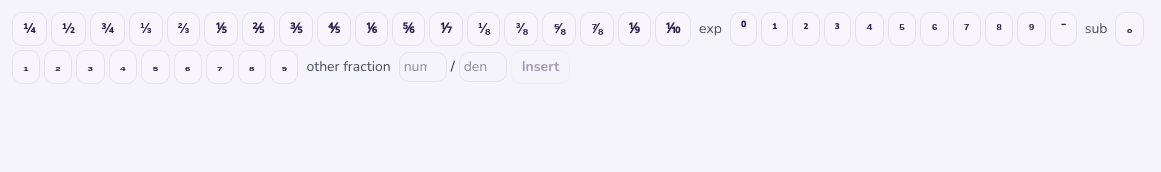
it: NotationToolbar › composes and inserts a custom fraction, then clears the fields
The width and height of the screenshot is (1161, 172).
Type "5" into the number field with test id "notation-fraction-numerator" at [423, 67], box x1=399 y1=52 x2=447 y2=82
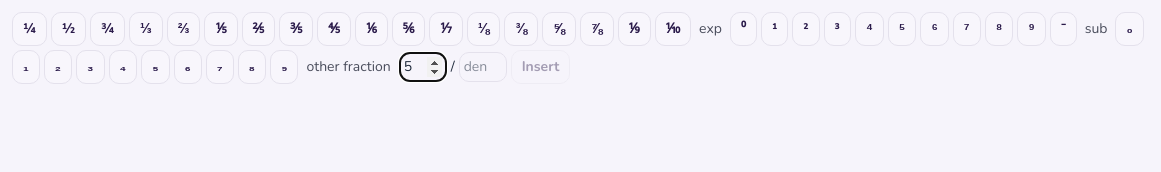
Type "12" into the number field with test id "notation-fraction-denominator" at [483, 67], box x1=459 y1=52 x2=507 y2=82
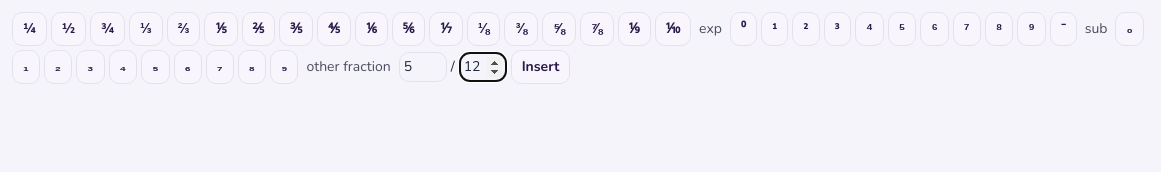
Click the button with test id "notation-fraction-insert" at [540, 67], box x1=511 y1=50 x2=570 y2=84
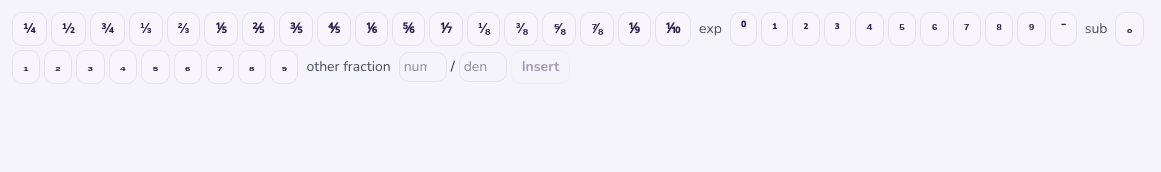
Expected: the number field with test id "notation-fraction-numerator" is not empty, x1=399 y1=52 x2=447 y2=82
Expected: the number field with test id "notation-fraction-denominator" is not empty, x1=459 y1=52 x2=507 y2=82
